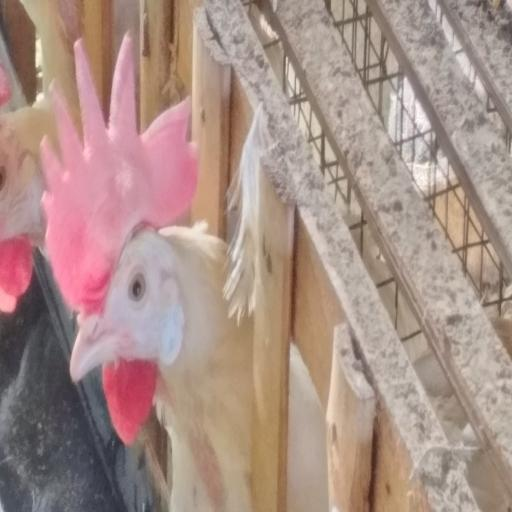healthy: (55, 168, 206, 394)
